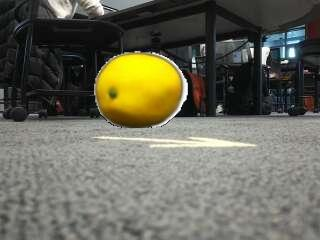lemon: (96, 55, 181, 129)
